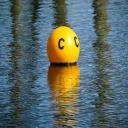yellow: (46, 26, 80, 64)
